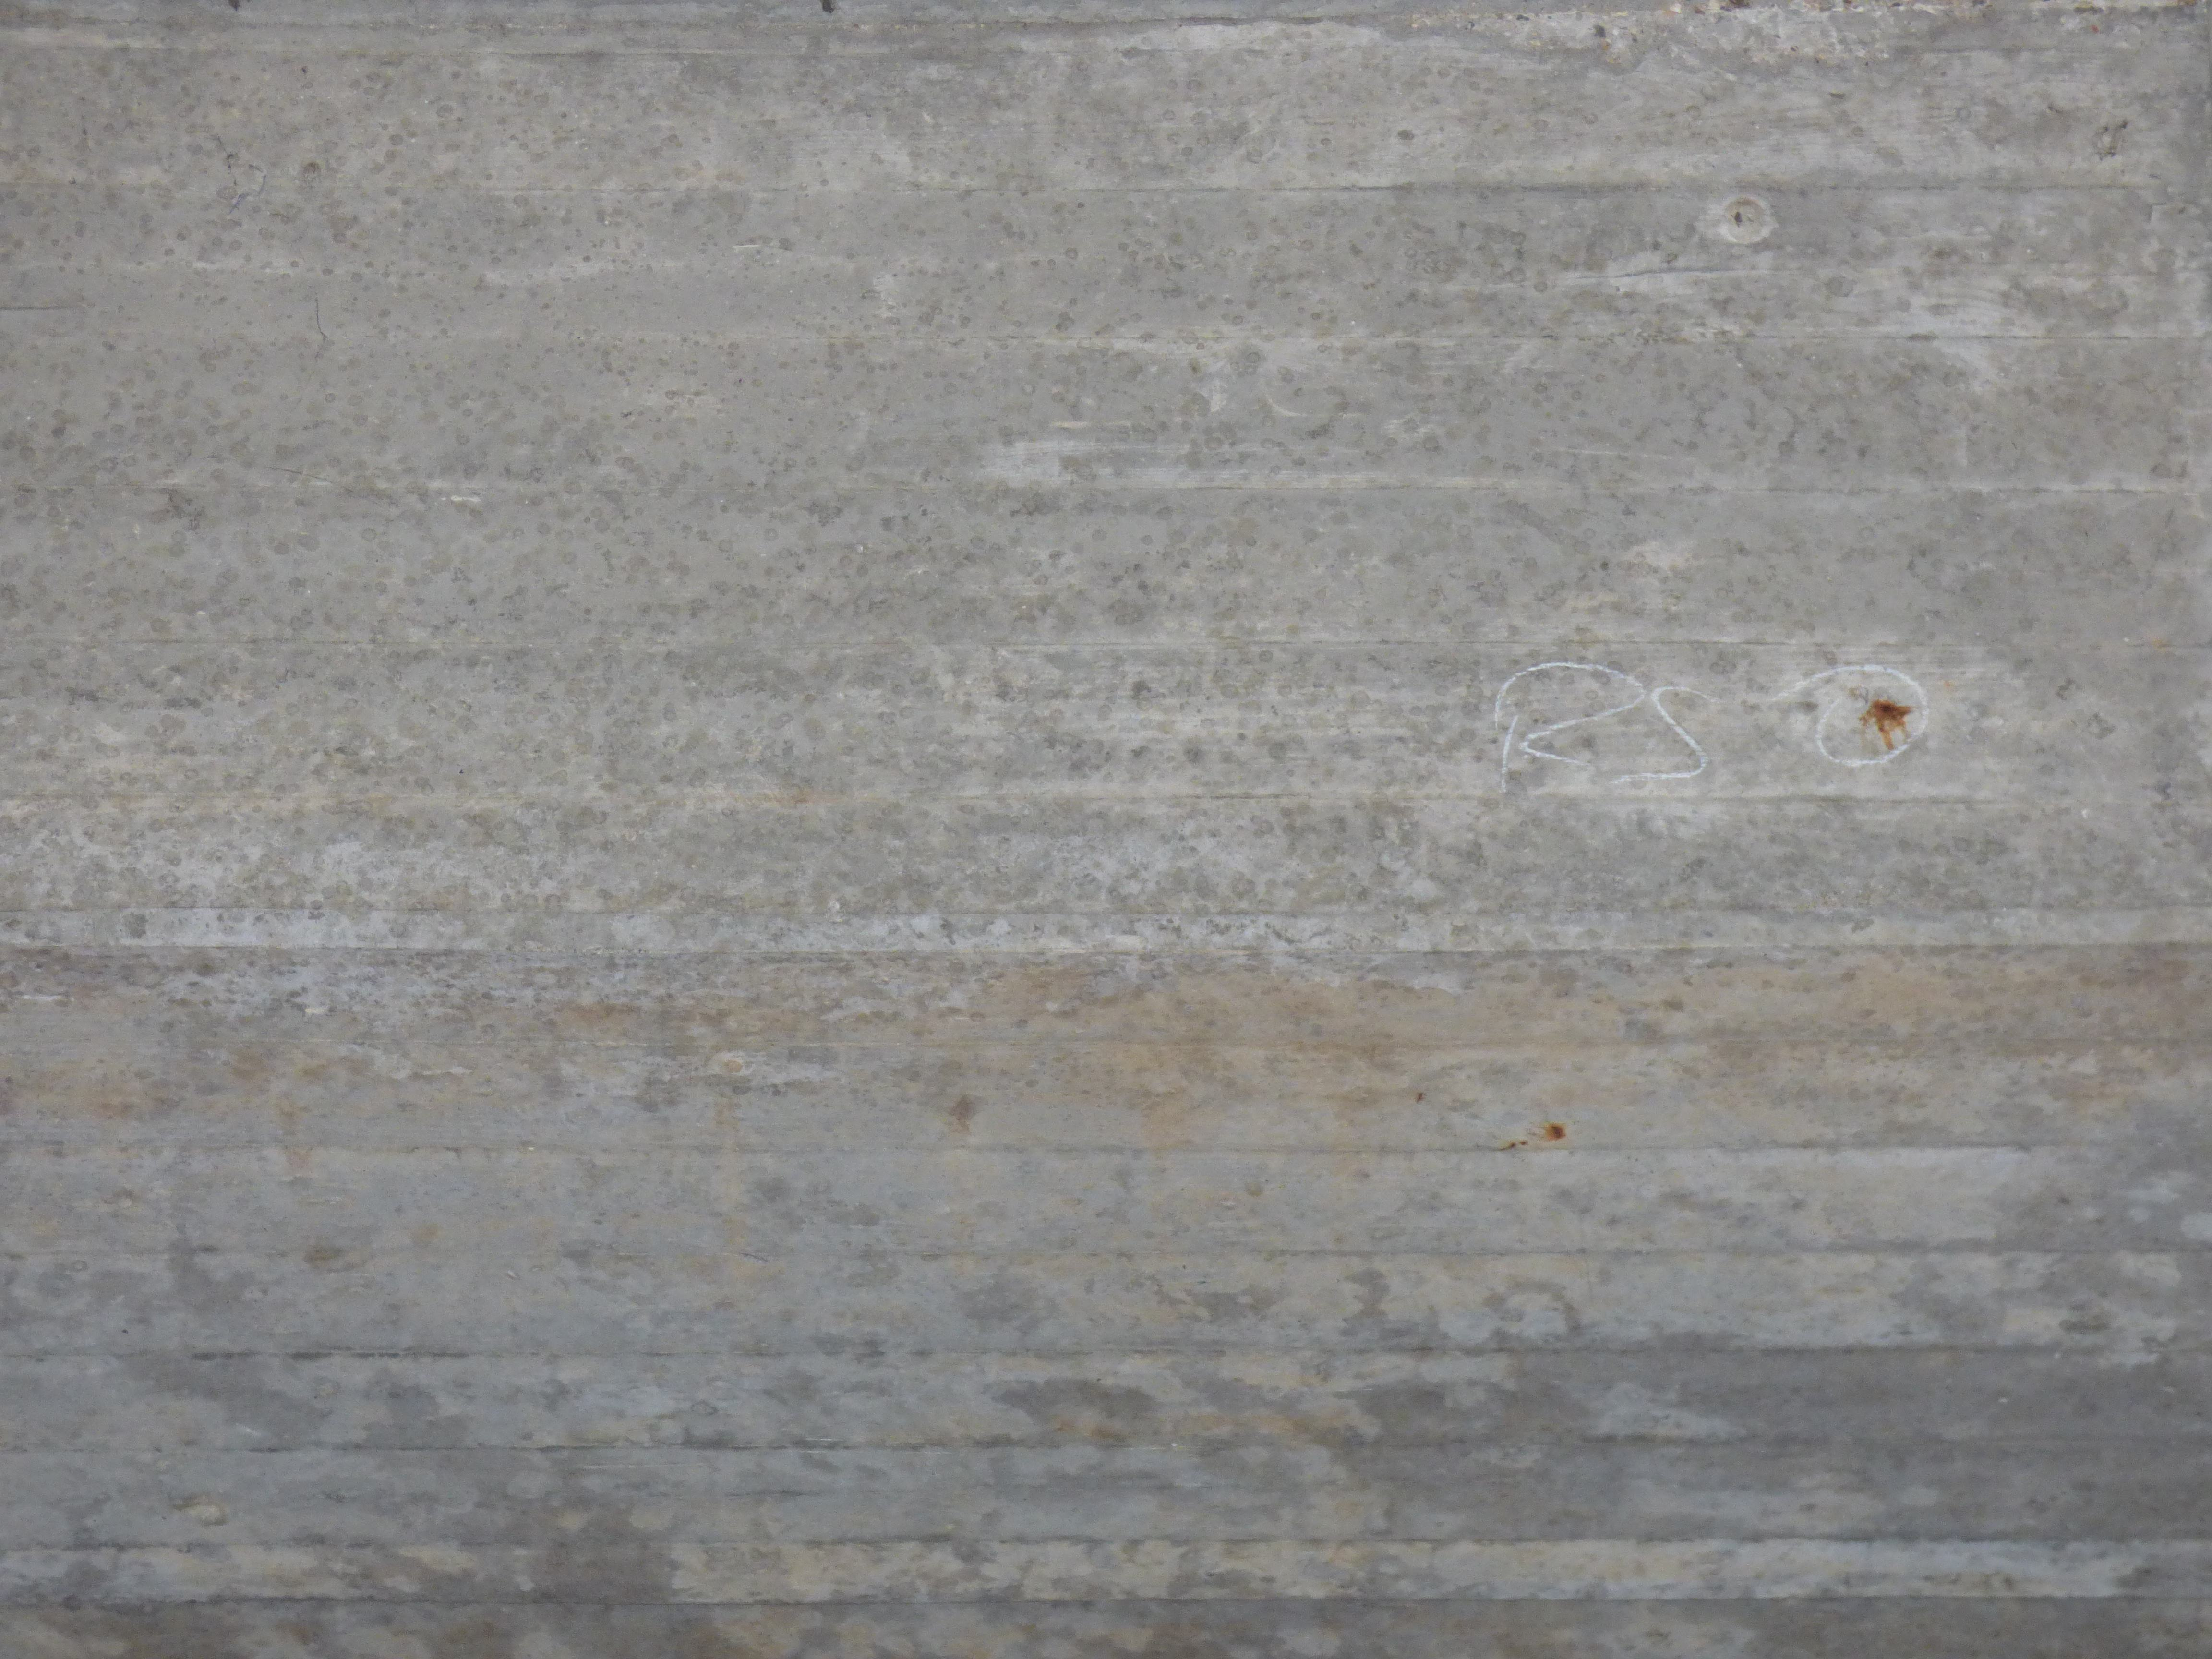Corrosion: (1860, 699, 1914, 749), (1498, 1122, 1568, 1152)
